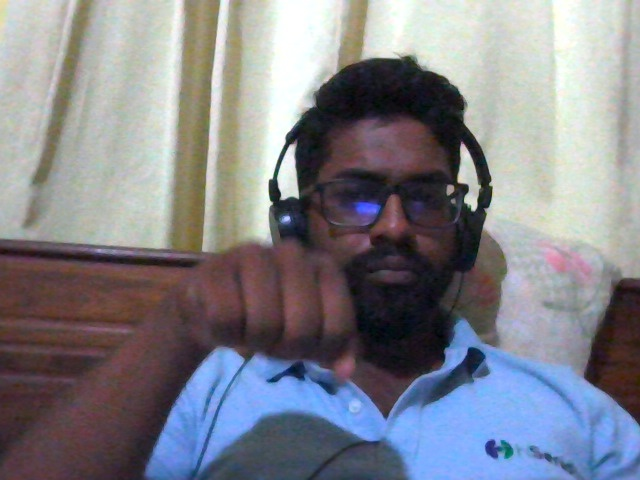Yes: (135, 216, 401, 406)
